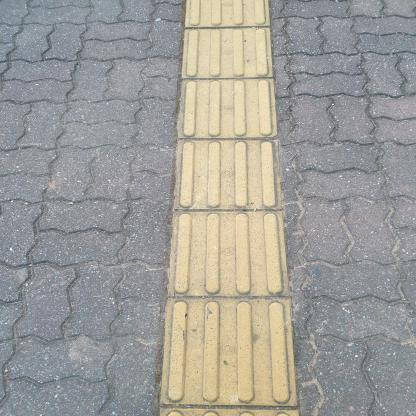podotacti: (150, 0, 312, 415)
